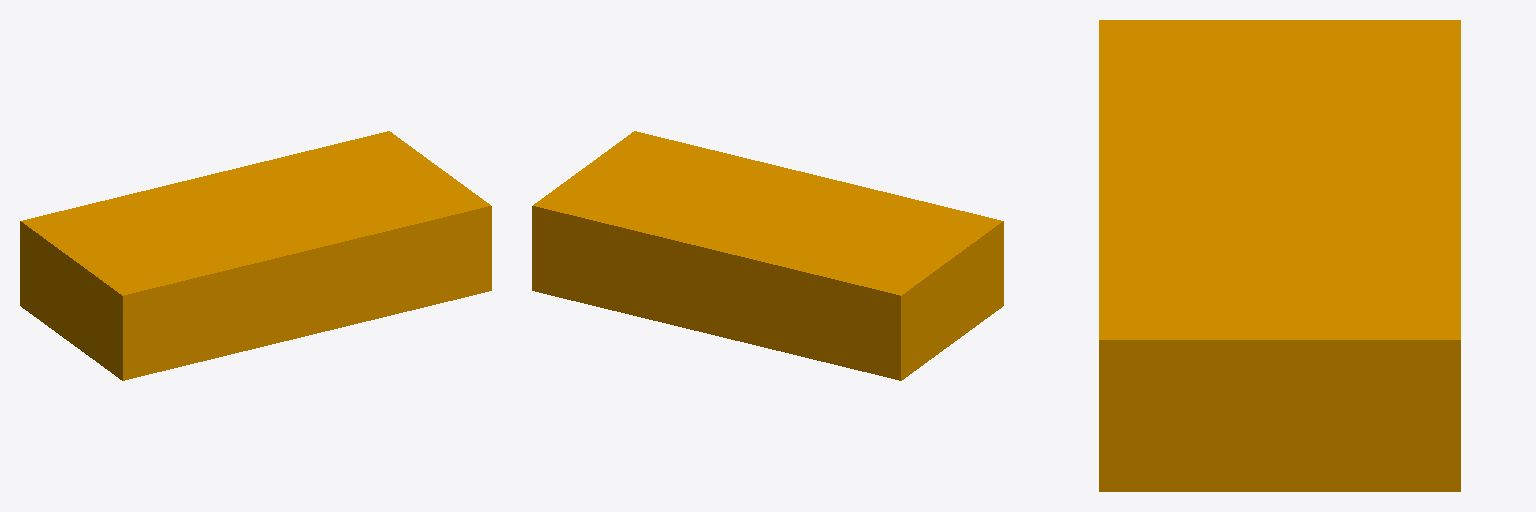
URDF robot description (red_brick):
<?xml version="1.0"?>
<robot name="red_brick">

  <link name="brick_link">
    <collision>
      <geometry>
        <!--mesh filename="package://pick_brick_ur5/mesh/collision/brick.stl" /-->
        <box size="0.24 0.115 0.053" />
      </geometry>
      <surface>
        <friction>
          <ode>
            <mu>500000</mu>
            <mu2>500000</mu2>
          </ode>
        </friction>
      </surface>
    </collision>

    <visual>
      <origin xyz="0 0 0" rpy="0 0 0"/>
      <geometry>
          <mesh filename="package://pick_brick_ur5/mesh/vision/brick.dae" />
      </geometry>
      <!--material name="brick_red">
          <color rgba="0.32 0.191 0.113 1"/>
      </material-->
    </visual>

    <!--inertial>
      <mass value="2.6" />
      <inertia
        ixx="0.166667" ixy="0.0"  ixz="0.0"
        iyy="0.166667" iyz="0.0"
        izz="0.166667" />
    </inertial-->
    <inertial>
      <mass value="0.05" />
      <inertia
        ixx="0.166667" ixy="0.0"  ixz="0.0"
        iyy="0.166667" iyz="0.0"
        izz="0.166667" />
    </inertial>
  </link>

  <gazebo reference="brick_link">
    <!--mu1>5</mu1>
    <mu2>5</mu2-->
    <self_collide>0</self_collide>
    <kinematic>0</kinematic>
    <gravity>1</gravity>
  </gazebo>

</robot>

--- Render facts (derived) ---
3 views of the same robot in one strip: view 1: azimuth 30°, elevation 25°; view 2: azimuth 150°, elevation 25°; view 3: azimuth 270°, elevation 25° (orthographic).
Robot: red_brick — 1 links, 0 joints (none); root link brick_link; default pose: every joint at zero.
Visible links, largest first — view 1: brick_link; view 2: brick_link; view 3: brick_link.
Link boxes in pixels (box(x1,y1,x2,y2)): brick_link: box(20, 131, 491, 380); brick_link: box(532, 131, 1003, 380); brick_link: box(1099, 20, 1460, 491).
Size in the robot's own frame: 0.24 by 0.115 by 0.053 metres.
1 mesh visuals loaded from 1 distinct referenced files (1 Collada DAE).